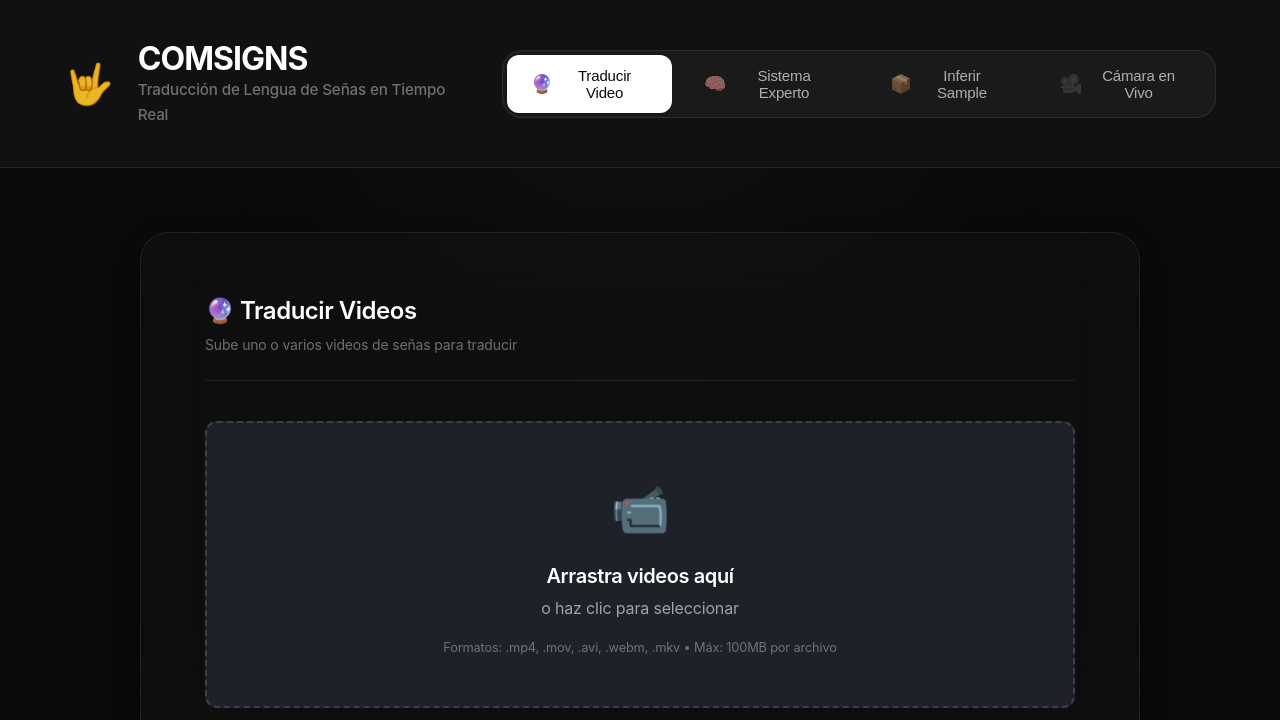
Test: 02 - Cambio entre Modos › debe cambiar al modo "Cámara en Vivo"
This screenshot has width=1280, height=720.
Expected: the heading "COMSIGNS" is shown, top-left (138, 39), bottom-right (308, 78)
Click the button "🎥 Cámara en Vivo": (1124, 84) top-left (1036, 55), bottom-right (1211, 113)
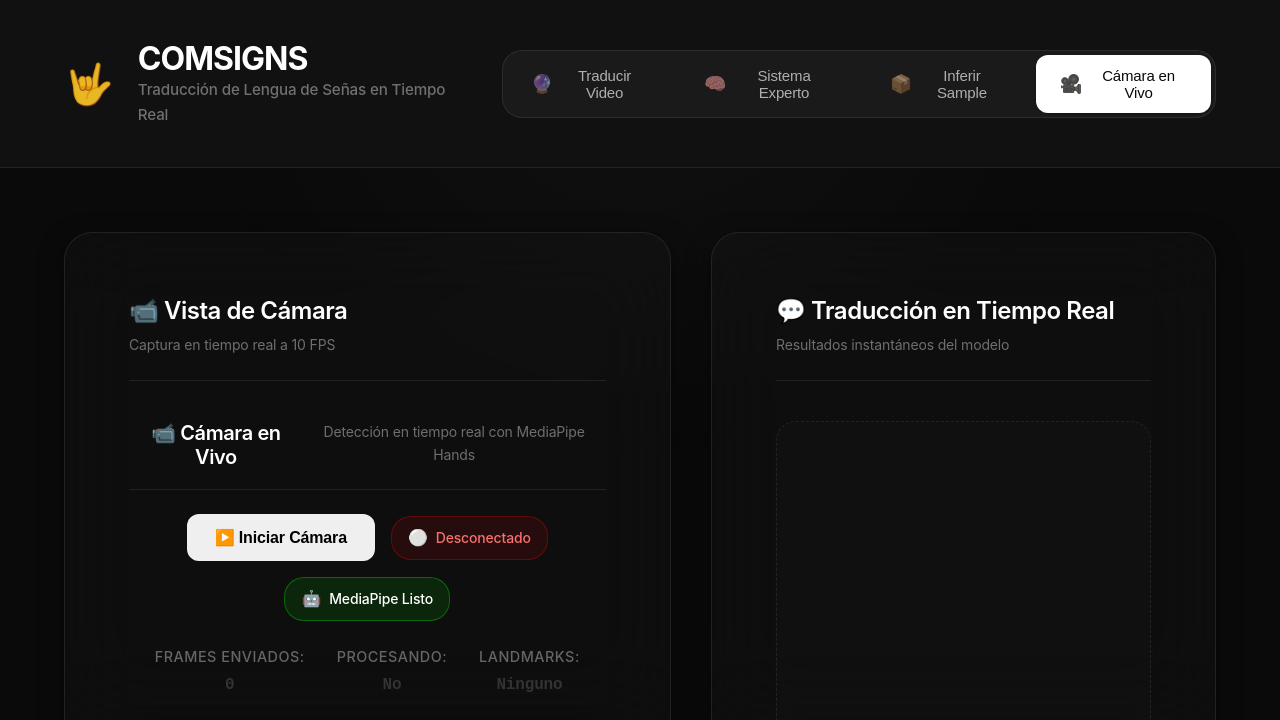
Expected: the heading "📹 Vista de Cámara" is shown, top-left (129, 296), bottom-right (347, 325)
Expected: the text "Captura en tiempo real a 10 FPS" is shown, top-left (129, 336), bottom-right (335, 353)
Expected: the element with class "camera-capture" is shown, top-left (129, 421), bottom-right (606, 719)
